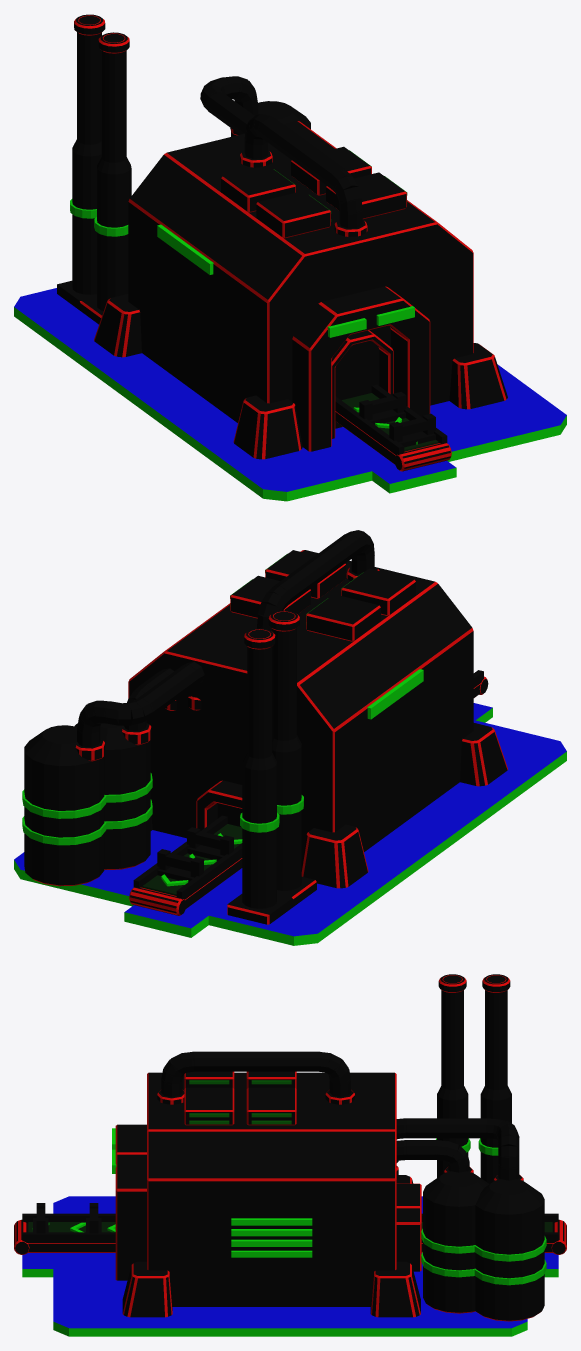
The model's file is SM_Holo_Refinery_T2.fbx.
The picture shows the model from 3 angles, top to bottom: view 1: azimuth 30°, elevation 25°; view 2: azimuth 150°, elevation 25°; view 3: azimuth 270°, elevation 25°; orthographic projection. The views are drawn at different scales.
Visible parts, largest first — view 1: SM_Holo_Refinery_T2; view 2: SM_Holo_Refinery_T2; view 3: SM_Holo_Refinery_T2.
Boxes of the visible parts, bbox=[...] form: SM_Holo_Refinery_T2: bbox=[14, 14, 566, 501]; SM_Holo_Refinery_T2: bbox=[14, 530, 566, 945]; SM_Holo_Refinery_T2: bbox=[14, 974, 566, 1336].
Size of the model in its own units: 10 by 9.02 by 17.73.
